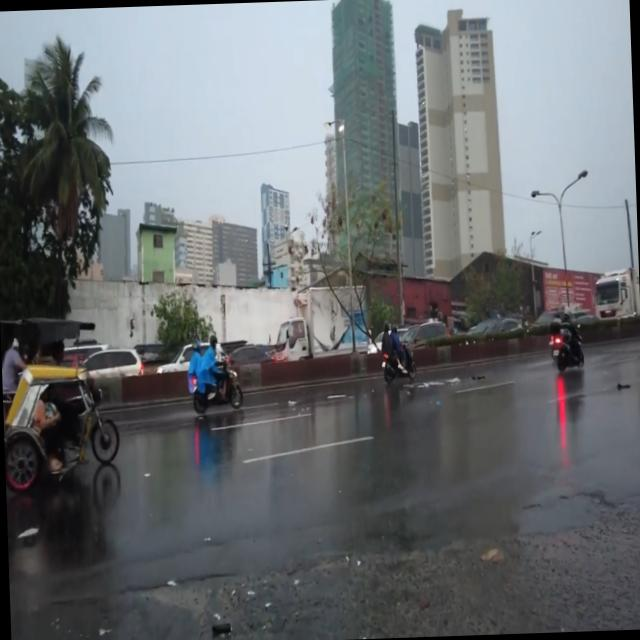half: (208, 331, 218, 350), (562, 303, 573, 320), (192, 336, 202, 354), (382, 318, 391, 334), (391, 322, 398, 334)
